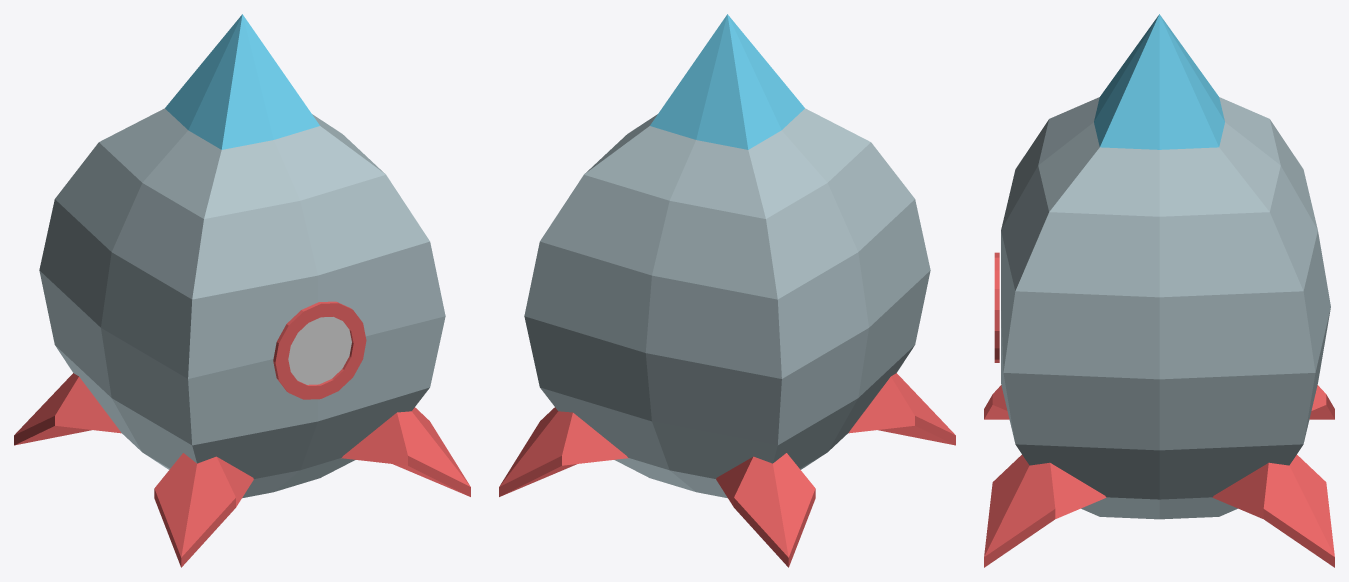
File: Rocket.fbx
3 renders of one model, left to right at view 1: azimuth 30°, elevation 25°; view 2: azimuth 150°, elevation 25°; view 3: azimuth 270°, elevation 25°, orthographic. The views are drawn at different scales.
Parts seen in each view (by area): view 1: pCylinder2; view 2: pCylinder2; view 3: pCylinder2.
Boxes of the visible parts, <box> form: pCylinder2: <box>14,14,470,567</box>; pCylinder2: <box>499,14,955,567</box>; pCylinder2: <box>984,14,1334,567</box>.
Bounding box in the file's own units: 102 × 158 × 102.
Materials: 4 (4 with a texture image).
